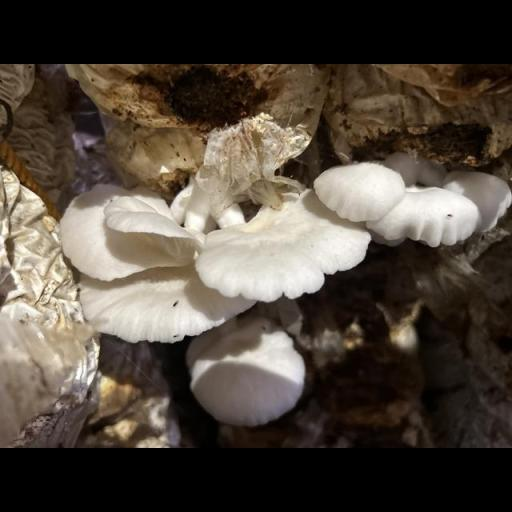White Oyster Mushroom: (358, 158, 510, 318), (314, 162, 406, 221)
